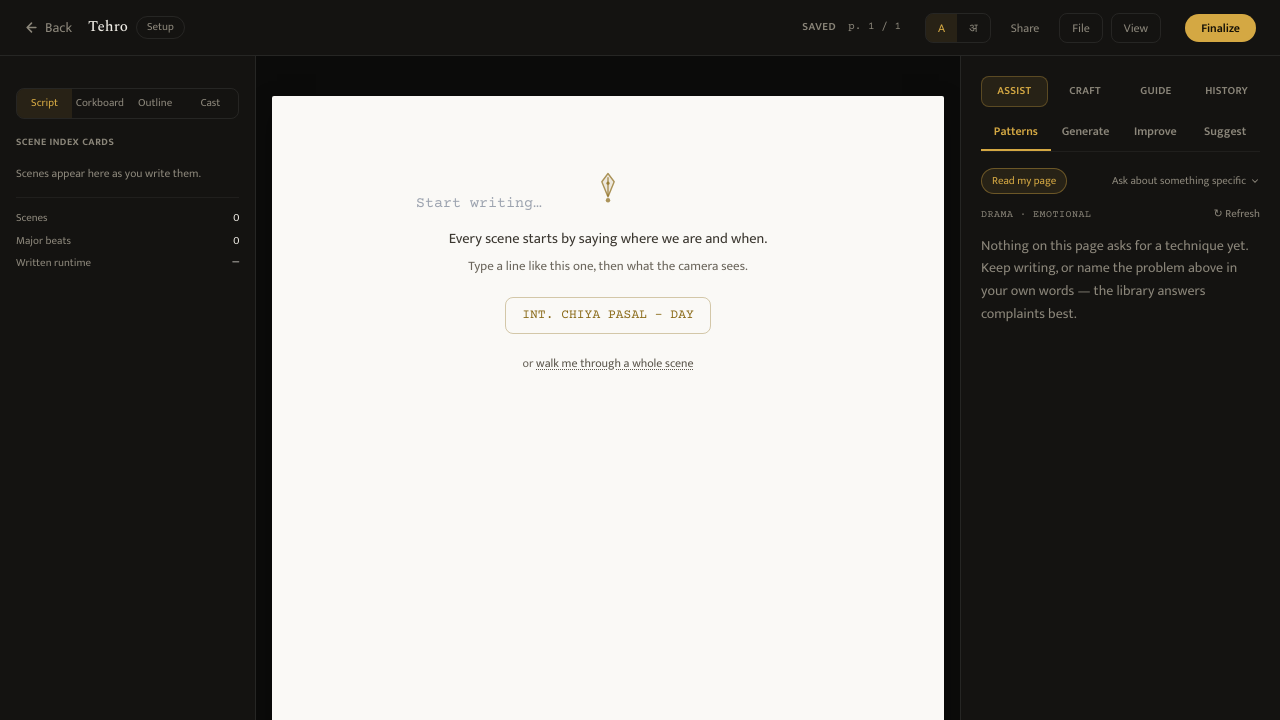
Scenario: focus mode › keeps the page position visible
Click the button "View": (1136,28) [1111,12,1161,42]
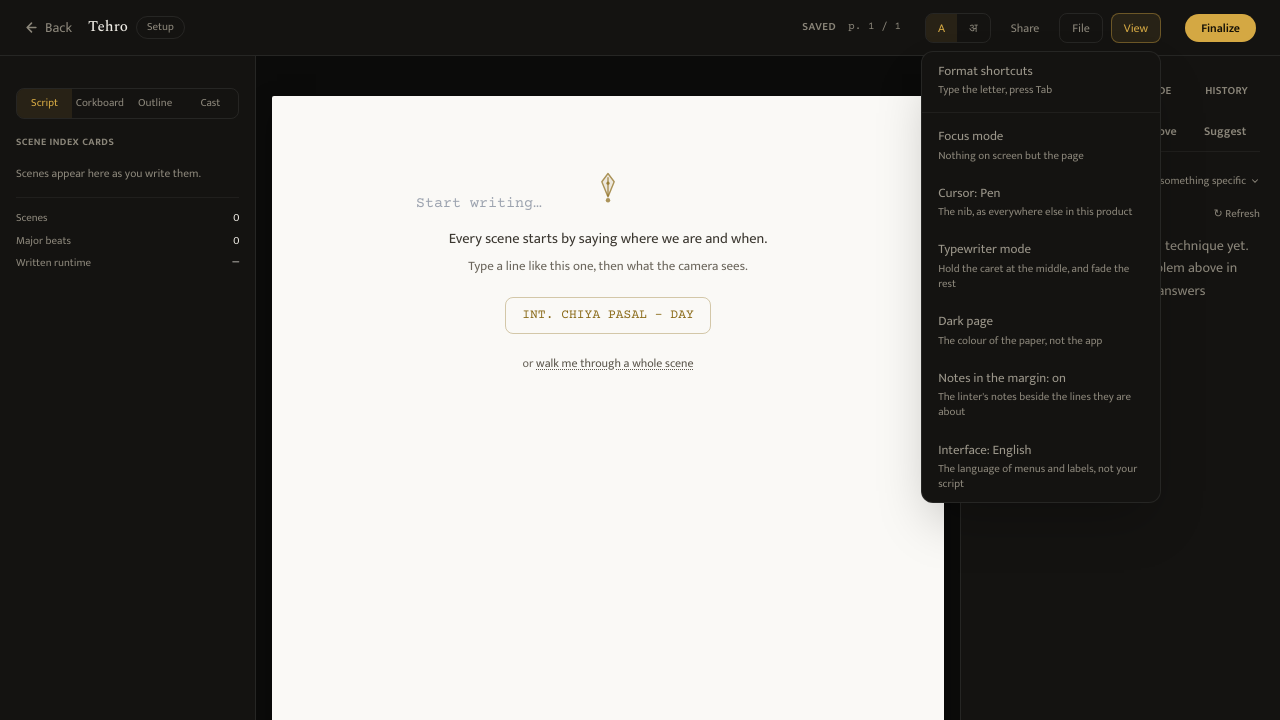
Click the menu item "Focus mode Nothing on screen but the page": (1041,145) [922,117,1160,174]
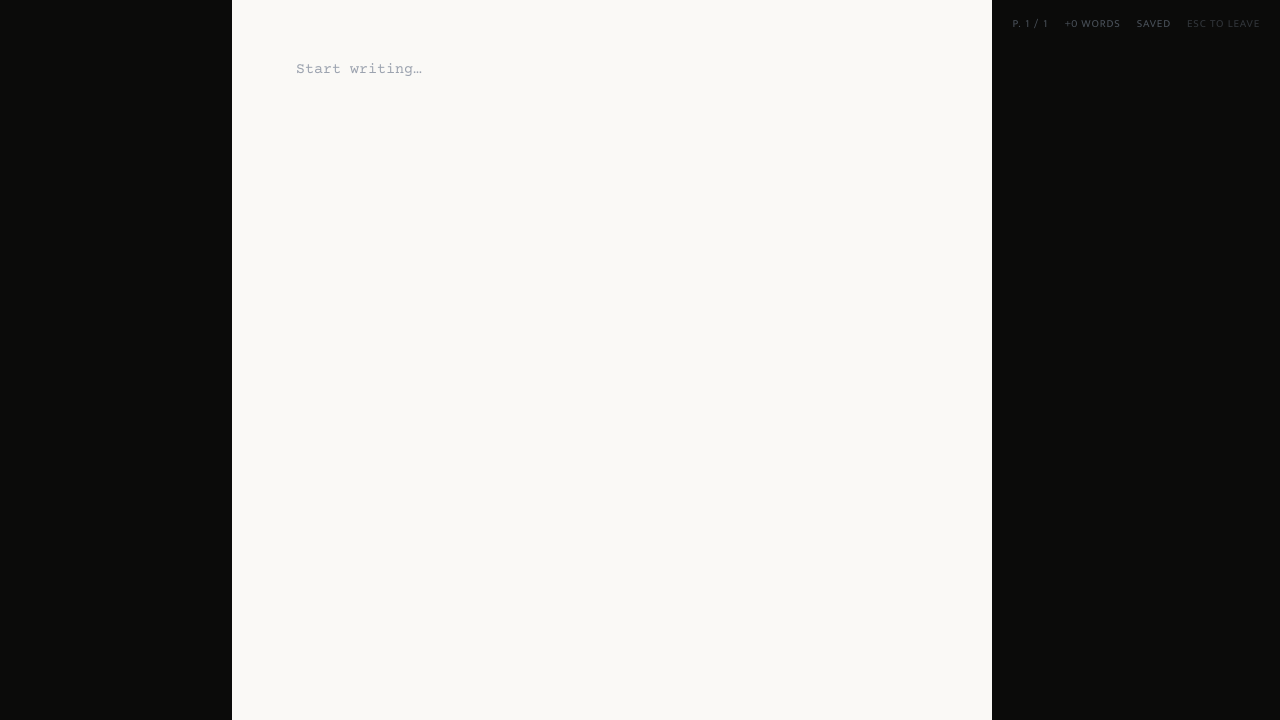
Now the text "p. 1 / 1" is shown once, box [1012,15,1049,33]
